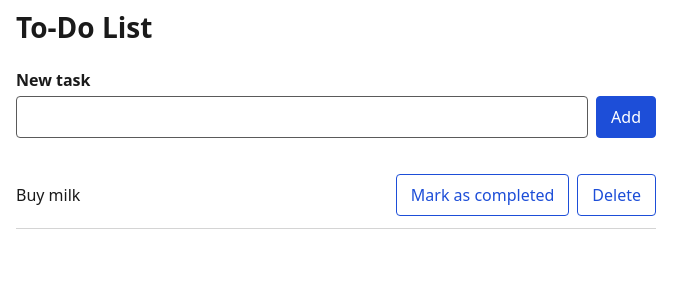
TaskListPage — US3 delete › FR-014 (T067): a failed delete (500) shows the message and the task stays
Click the button named "Delete: Buy milk" at (617, 195), box [577,174,656,216]
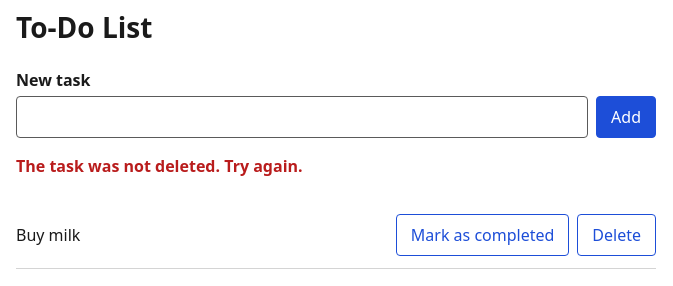
expect the text "Buy milk" is shown: met, box [16,224,80,246]
expect the text with test id "error-message" reads "The task was not deleted. Try again.": met, box [16,155,303,177]
